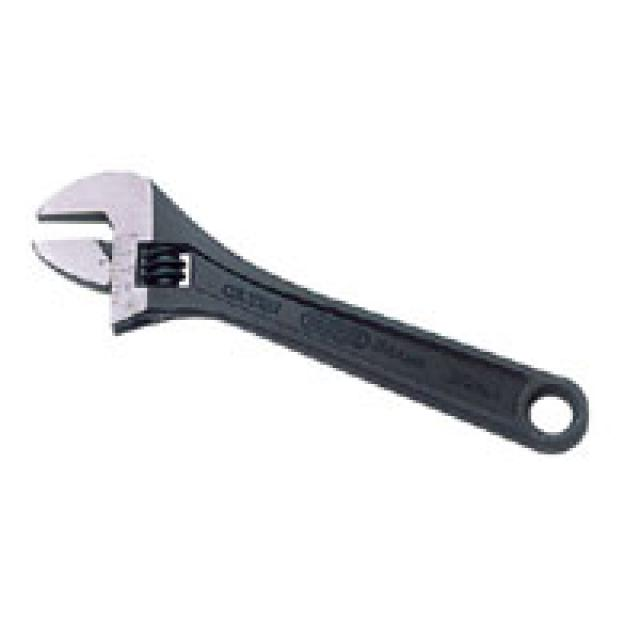wrench: (3, 112, 624, 490)
